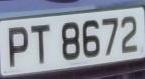2: (120, 13, 141, 59)
6: (80, 14, 104, 64)
7: (100, 15, 122, 60)
8: (59, 15, 82, 68)
P: (4, 21, 31, 73)
T: (29, 21, 55, 69)
